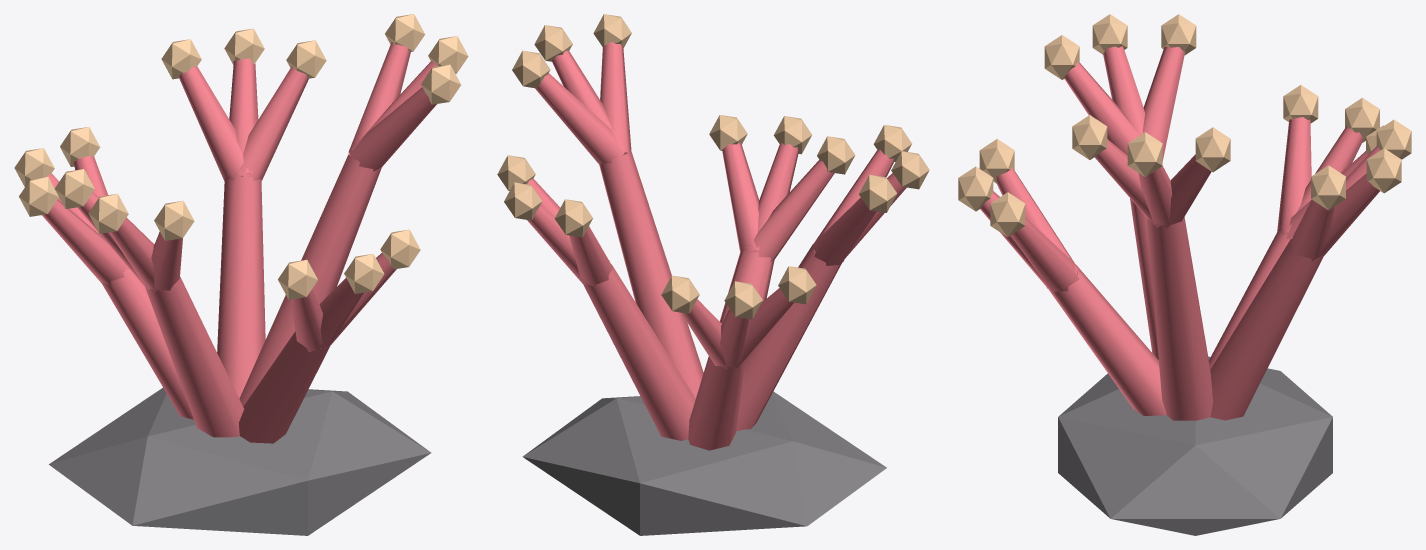
The model's file is ocean-scenery-4.glb.
3 views of the same model, side by side, from view 1: azimuth 30°, elevation 25°; view 2: azimuth 150°, elevation 25°; view 3: azimuth 270°, elevation 25° (orthographic). The views are drawn at different scales.
Parts seen in each view (by area): view 1: Branching ocean coral; view 2: Branching ocean coral; view 3: Branching ocean coral.
Part boxes in pixels (<box>): Branching ocean coral: <box>14,14,468,535</box>; Branching ocean coral: <box>497,14,929,535</box>; Branching ocean coral: <box>958,14,1411,535</box>.
Bounding box in the file's own units: 1.54 × 1.67 × 1.54.
